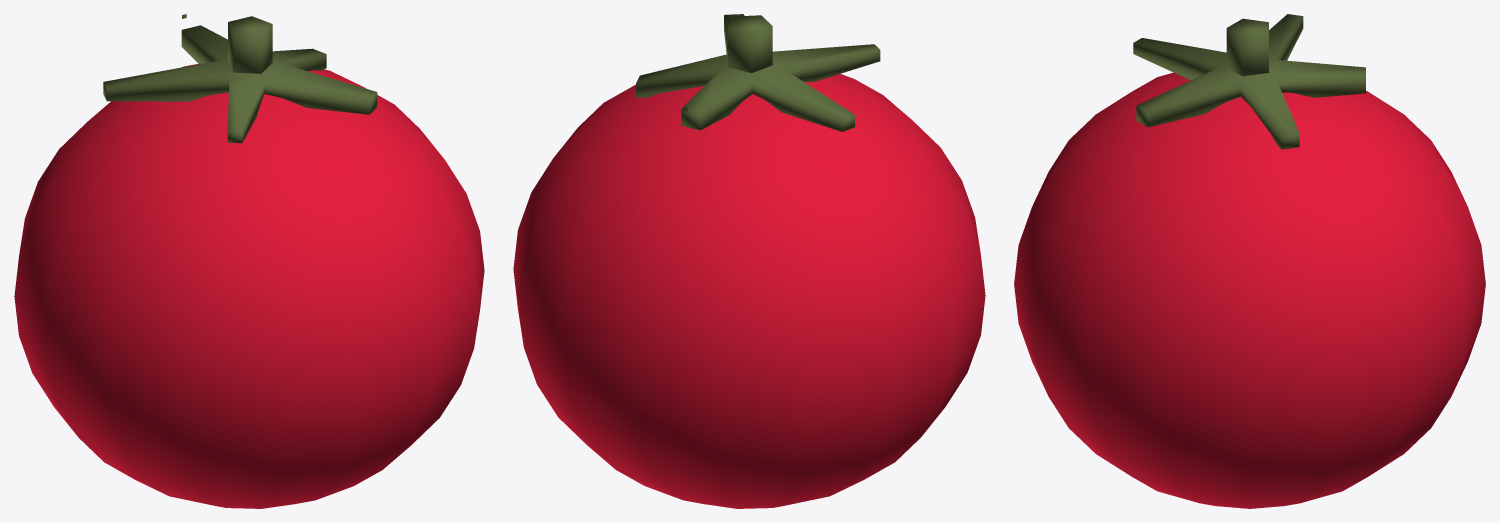
The model's file is tomato.fbx.
3 views of the same model, side by side, from view 1: azimuth 30°, elevation 25°; view 2: azimuth 150°, elevation 25°; view 3: azimuth 270°, elevation 25° (orthographic).
Parts seen in each view (by area): view 1: Cylinder.002; view 2: Cylinder.002; view 3: Cylinder.002.
Part boxes in pixels (<box>): Cylinder.002: <box>14,14,484,508</box>; Cylinder.002: <box>513,14,985,508</box>; Cylinder.002: <box>1014,14,1485,508</box>.
Bounding box in the file's own units: 36 × 38.57 × 36.
